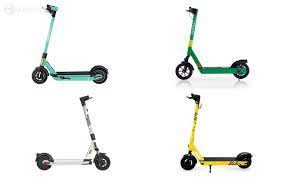kick_board: (32, 5, 108, 84), (180, 93, 252, 172), (36, 95, 110, 169), (176, 8, 249, 79)
kick_body: (54, 72, 91, 80), (204, 157, 238, 165), (56, 159, 92, 165), (201, 67, 231, 74)
kick_handler: (41, 5, 58, 16), (184, 6, 198, 16), (186, 94, 202, 102), (80, 96, 93, 105)
kick_neck: (82, 107, 98, 150), (42, 19, 54, 58), (189, 106, 198, 148), (187, 19, 196, 53)
kick_wheel: (175, 61, 194, 79), (232, 60, 249, 79), (90, 65, 107, 83), (32, 66, 47, 84), (35, 154, 53, 169), (181, 154, 196, 171), (96, 153, 110, 169), (239, 152, 252, 169)
